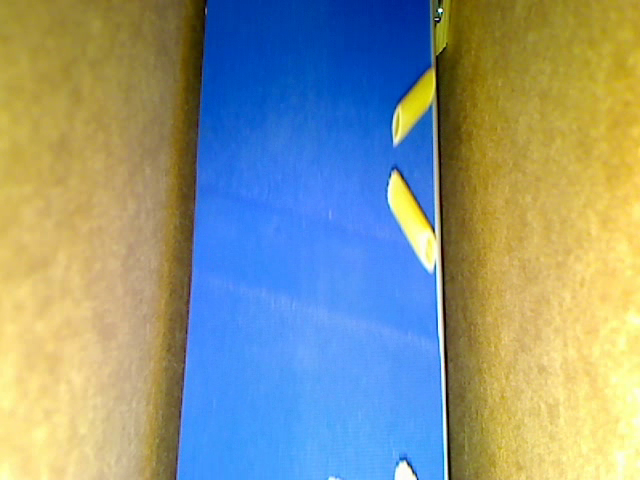penne: (385, 166, 439, 275), (388, 66, 438, 143), (434, 1, 449, 56)
